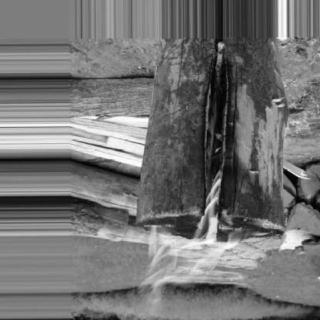Fire: (134, 59, 283, 307)
